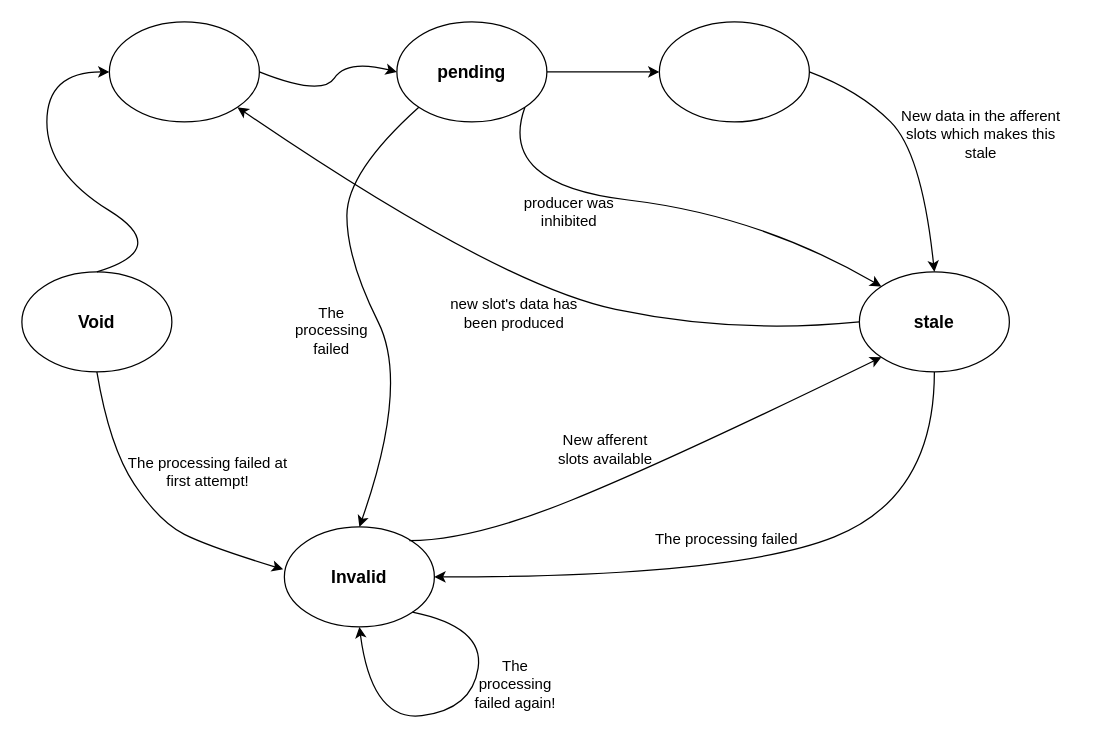
Some shapes in this 1094 by 744 pixel diagram are drawn without their labels. Each missing label, with the centre of its shape:
current: point (733, 71)
updated: point (183, 71)
